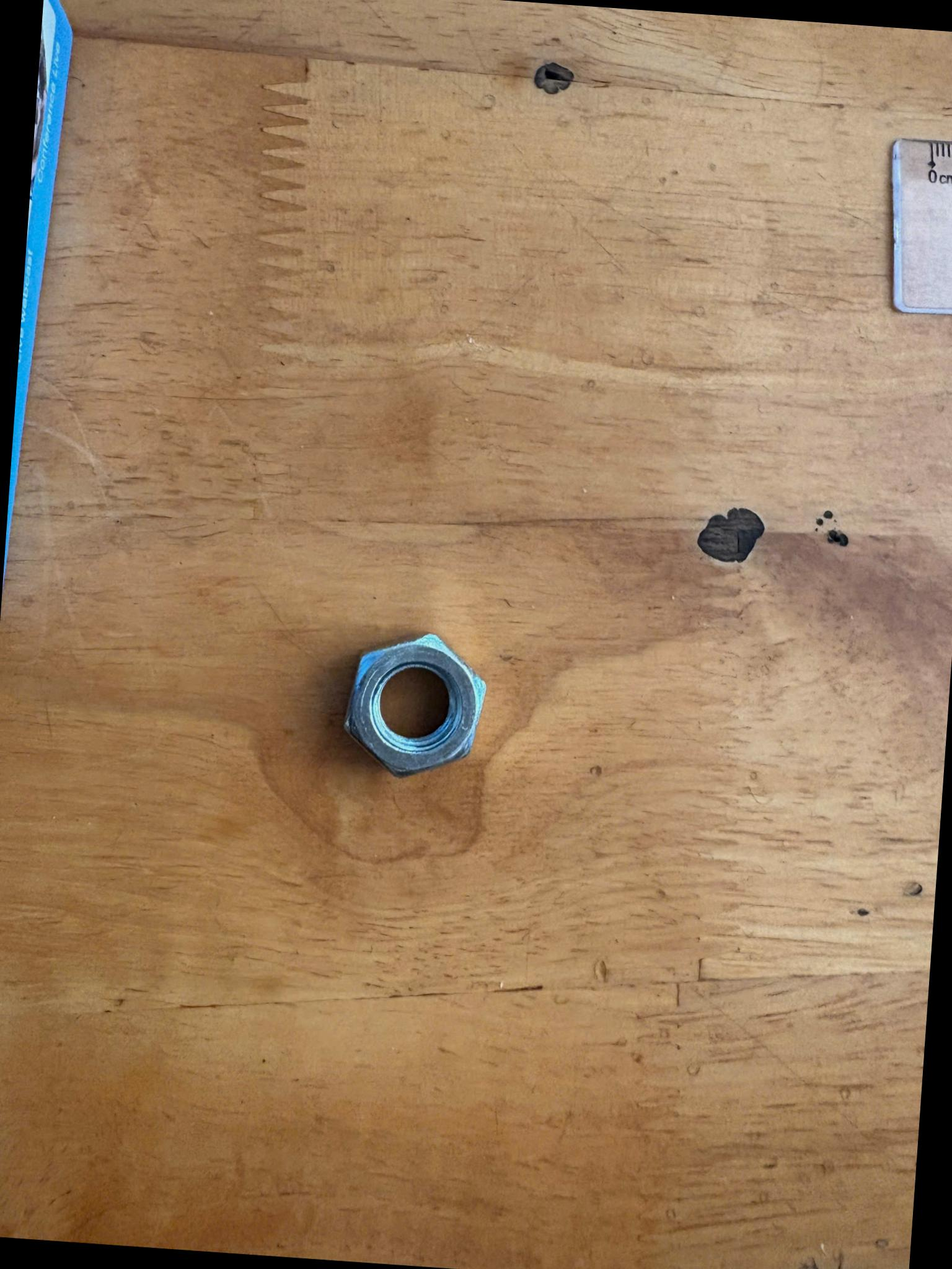nut: (326, 606, 513, 803)
